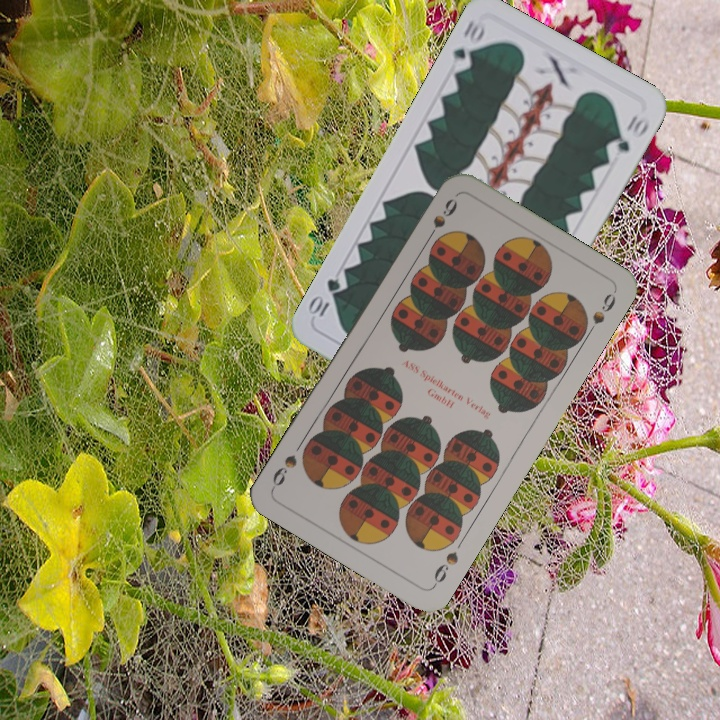G10: (447, 15, 488, 74)
S9: (421, 194, 460, 246), (428, 547, 461, 590)
